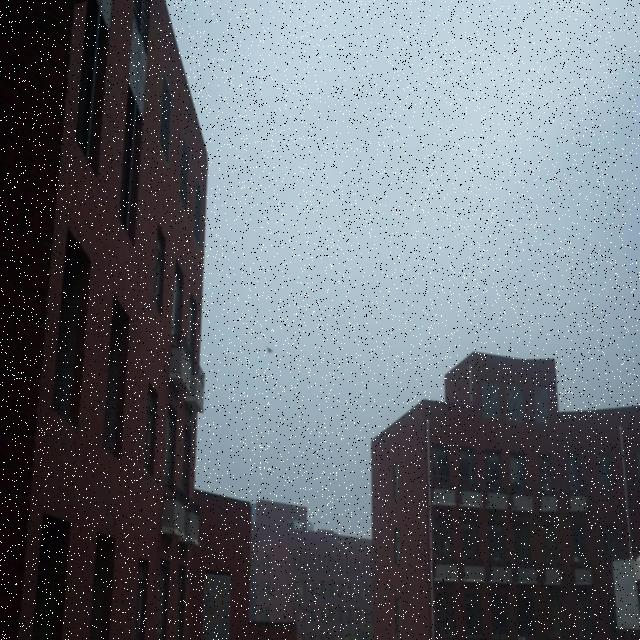UAV: (266, 346, 274, 354)
